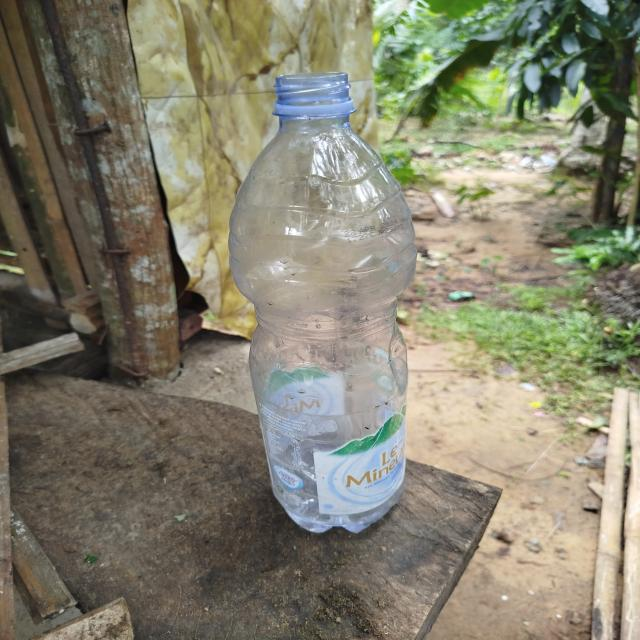plastic: (224, 52, 451, 556)
